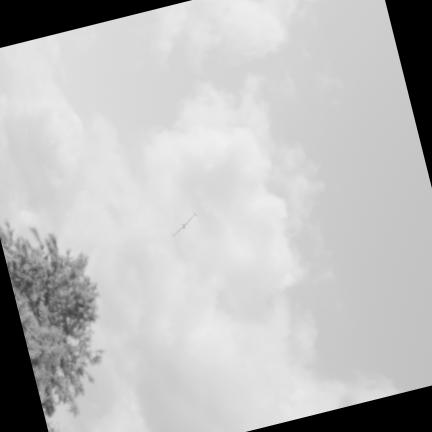Shahed: (171, 212, 196, 236)
